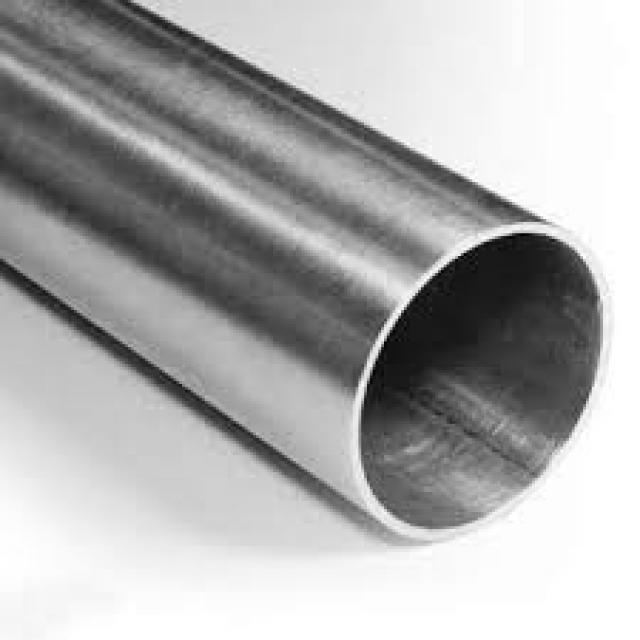pipe: (354, 217, 616, 545)
